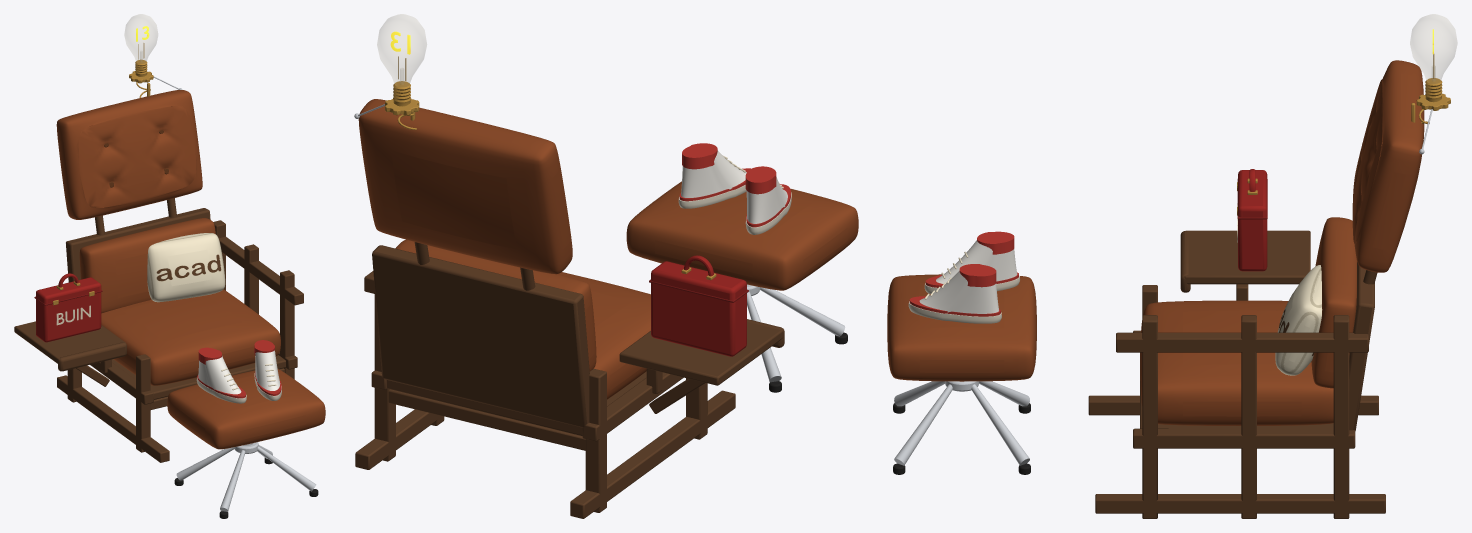
The model's file is midcentury-modern-chair.glb.
The picture shows the model from 3 angles, left to right: view 1: azimuth 30°, elevation 25°; view 2: azimuth 150°, elevation 25°; view 3: azimuth 270°, elevation 25°; orthographic projection. The views are drawn at different scales.
Parts seen in each view (by area): view 1: back_cushion, back_panel, pillow, briefcase, hightop_upper, antenna, bulb, hightop_collar, hightop_sole, coil_wire, buin; view 2: back_panel, back_cushion, briefcase, hightop_upper, bulb, hightop_collar, antenna, hightop_sole, coil_wire; view 3: back_cushion, back_panel, hightop_upper, antenna, briefcase, pillow, bulb, hightop_collar, hightop_sole, coil_wire.
Boxes of the visible parts, bbox=[...] form: back_cushion: bbox=[56, 90, 325, 449]; back_panel: bbox=[14, 198, 303, 462]; pillow: bbox=[147, 233, 225, 302]; briefcase: bbox=[36, 277, 101, 342]; hightop_upper: bbox=[198, 350, 280, 394]; antenna: bbox=[153, 76, 316, 511]; bulb: bbox=[124, 14, 157, 63]; hightop_collar: bbox=[197, 340, 281, 398]; hightop_sole: bbox=[196, 373, 281, 403]; coil_wire: bbox=[129, 59, 153, 97]; buin: bbox=[56, 305, 276, 390]; back_panel: bbox=[355, 242, 784, 518]; back_cushion: bbox=[358, 99, 858, 399]; briefcase: bbox=[651, 261, 746, 356]; hightop_upper: bbox=[681, 150, 787, 223]; bulb: bbox=[377, 14, 426, 86]; hightop_collar: bbox=[679, 143, 790, 227]; antenna: bbox=[354, 104, 845, 382]; hightop_sole: bbox=[678, 185, 791, 234]; coil_wire: bbox=[385, 81, 419, 129]; back_cushion: bbox=[887, 60, 1424, 425]; back_panel: bbox=[1088, 230, 1385, 518]; hightop_upper: bbox=[919, 240, 1017, 313]; antenna: bbox=[894, 109, 1432, 465]; briefcase: bbox=[1238, 170, 1267, 271]; pillow: bbox=[1275, 265, 1322, 375]; bulb: bbox=[1410, 14, 1457, 83]; hightop_collar: bbox=[909, 231, 1018, 316]; hightop_sole: bbox=[908, 275, 1020, 323]; coil_wire: bbox=[1416, 78, 1450, 123].
Size of the model in its own units: 1.04 by 1.52 by 1.67.
Materials: 16 (1 with a texture image).
